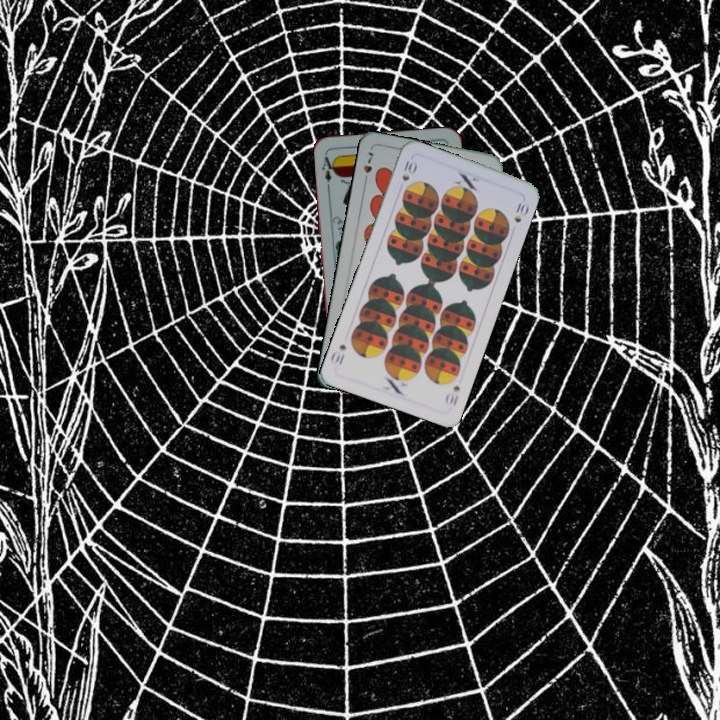EA: (318, 153, 338, 190)
H7: (359, 148, 376, 187)
S10: (441, 382, 463, 409), (398, 156, 418, 184)
